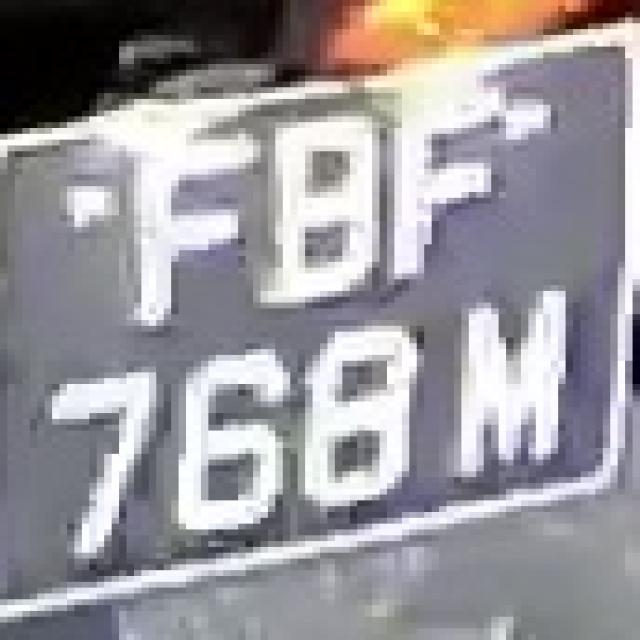6: (164, 332, 305, 530)
7: (30, 343, 164, 576)
8: (283, 302, 432, 518)
B: (223, 88, 387, 308)
F: (97, 122, 260, 338), (358, 82, 528, 274)
M: (424, 279, 596, 489)
